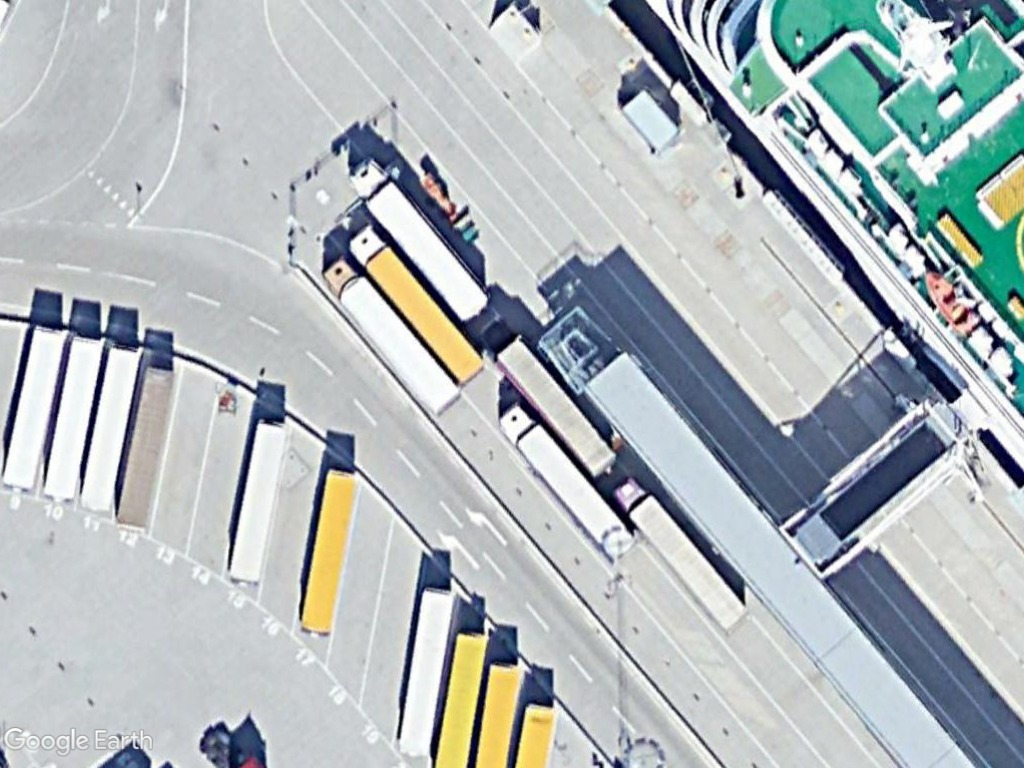truck: (339, 220, 501, 392), (341, 156, 494, 329), (318, 257, 470, 422), (471, 313, 622, 478), (608, 468, 752, 631), (491, 398, 631, 557)
